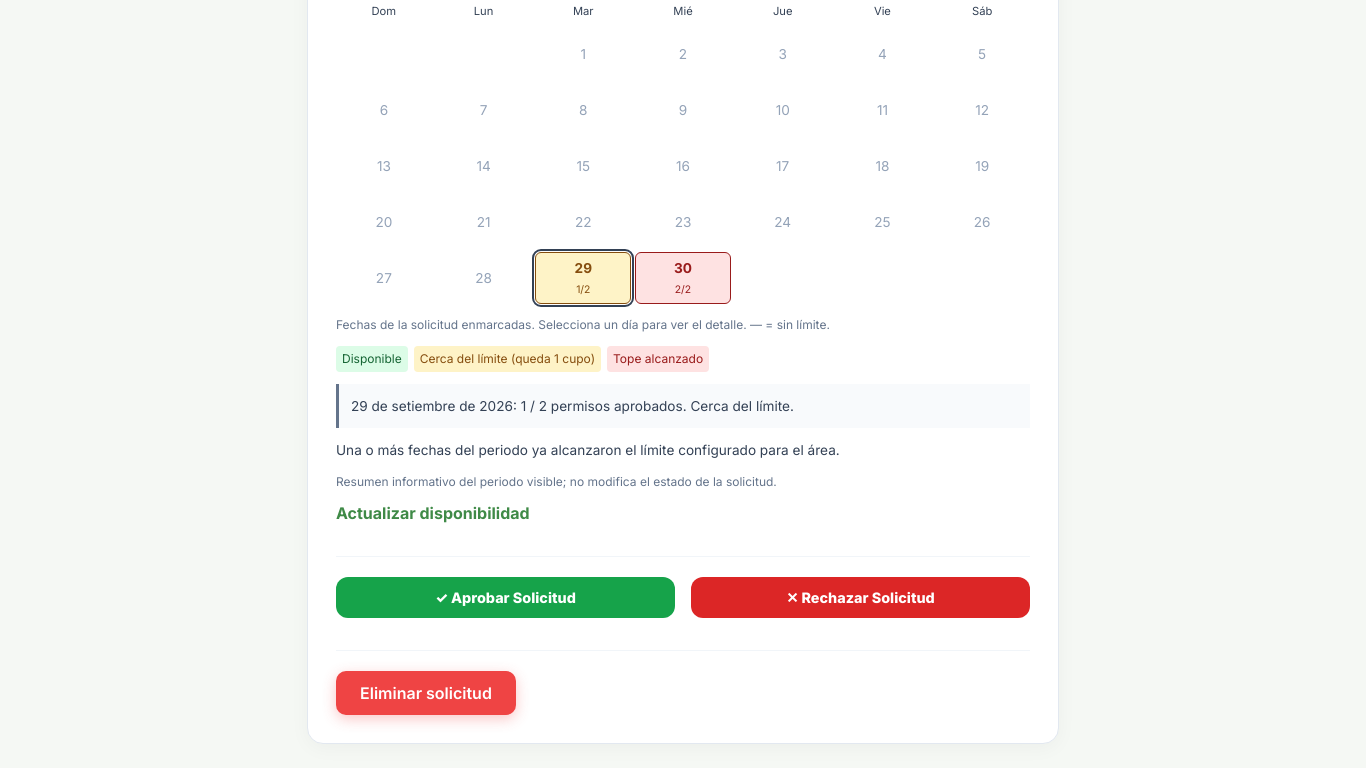
Test: Detalle RRHH: disponibilidad informativa › cancelar no aprueba y rechazar sigue exigiendo motivo
(page scrolled)
Click the button with class "btn-approve": (506, 598) [336, 577, 675, 618]
(page scrolled)
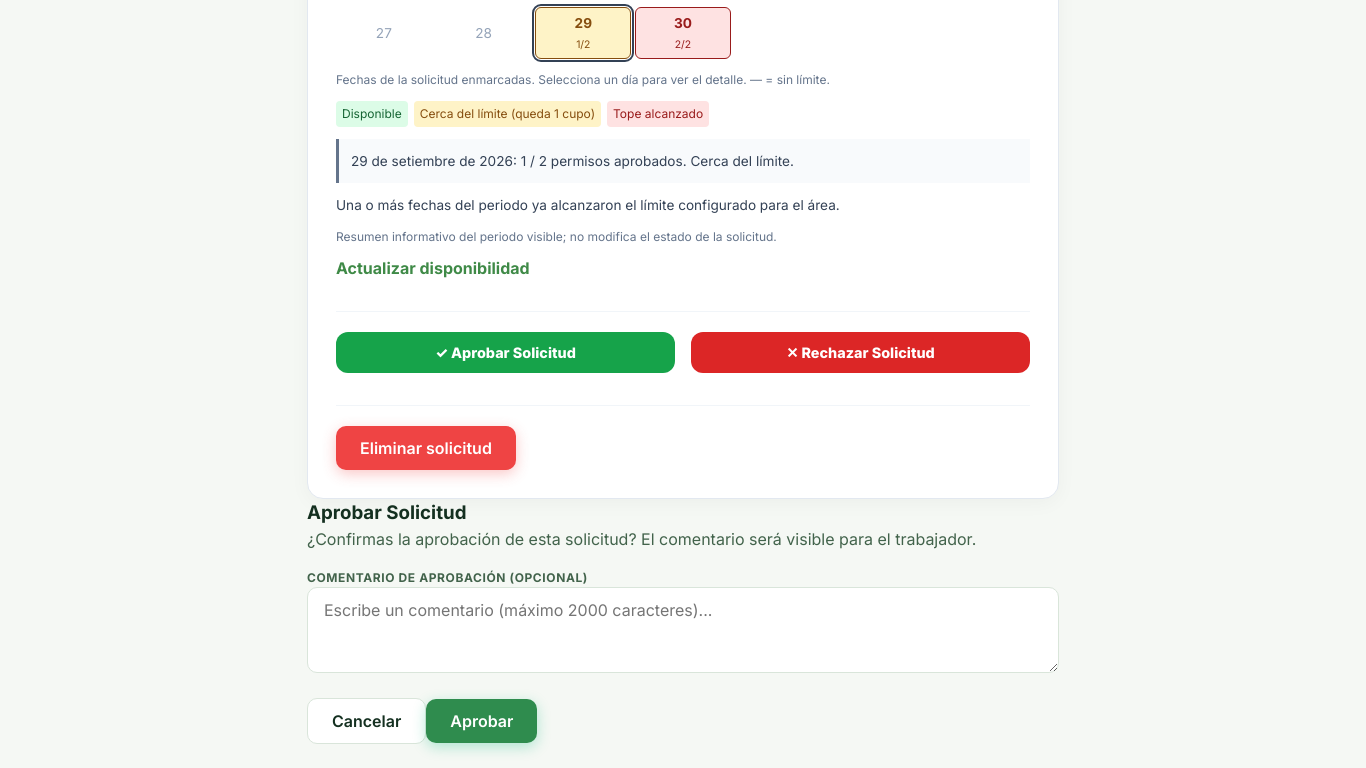
Click the button "Cancelar": (367, 721) [307, 698, 426, 744]
(page scrolled)
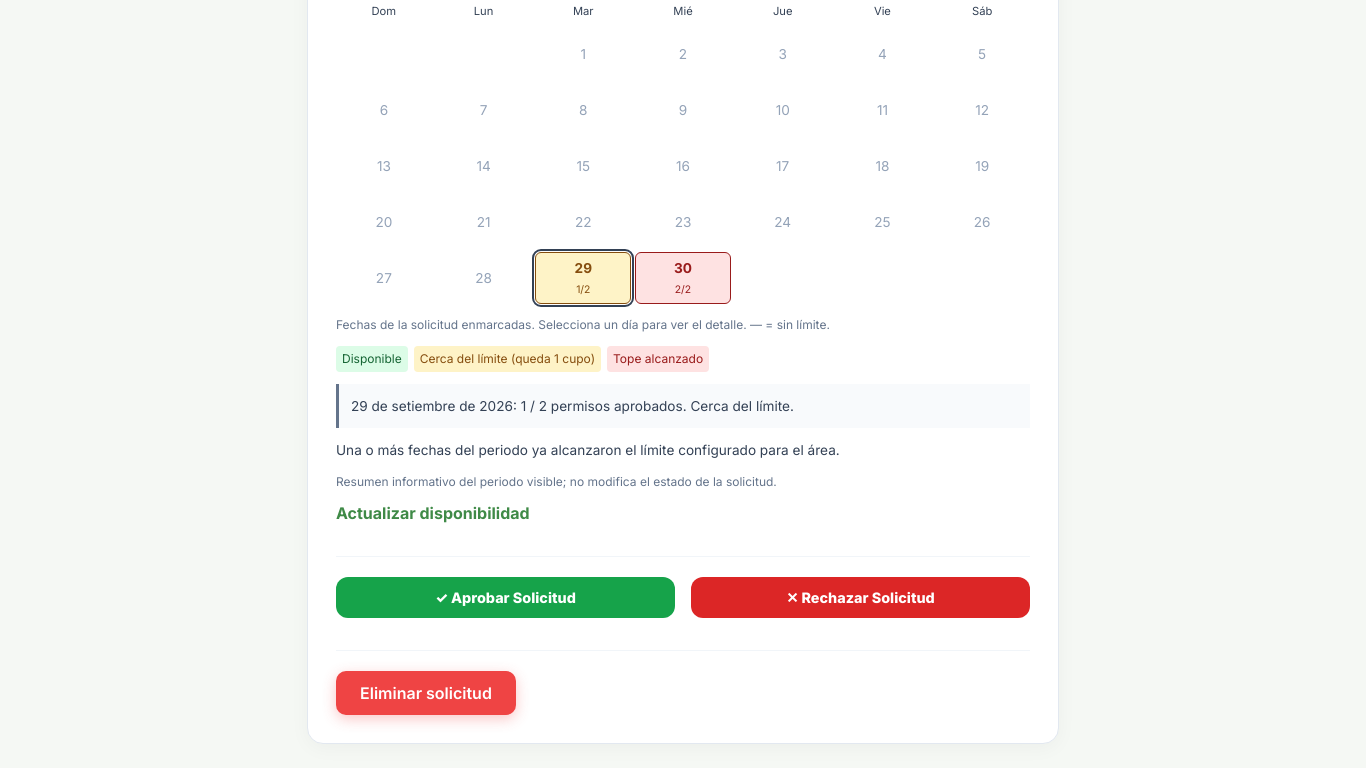
expect the dialog is gone: met
Click the button with class "btn-reject": (860, 598) [691, 577, 1030, 618]
(page scrolled)
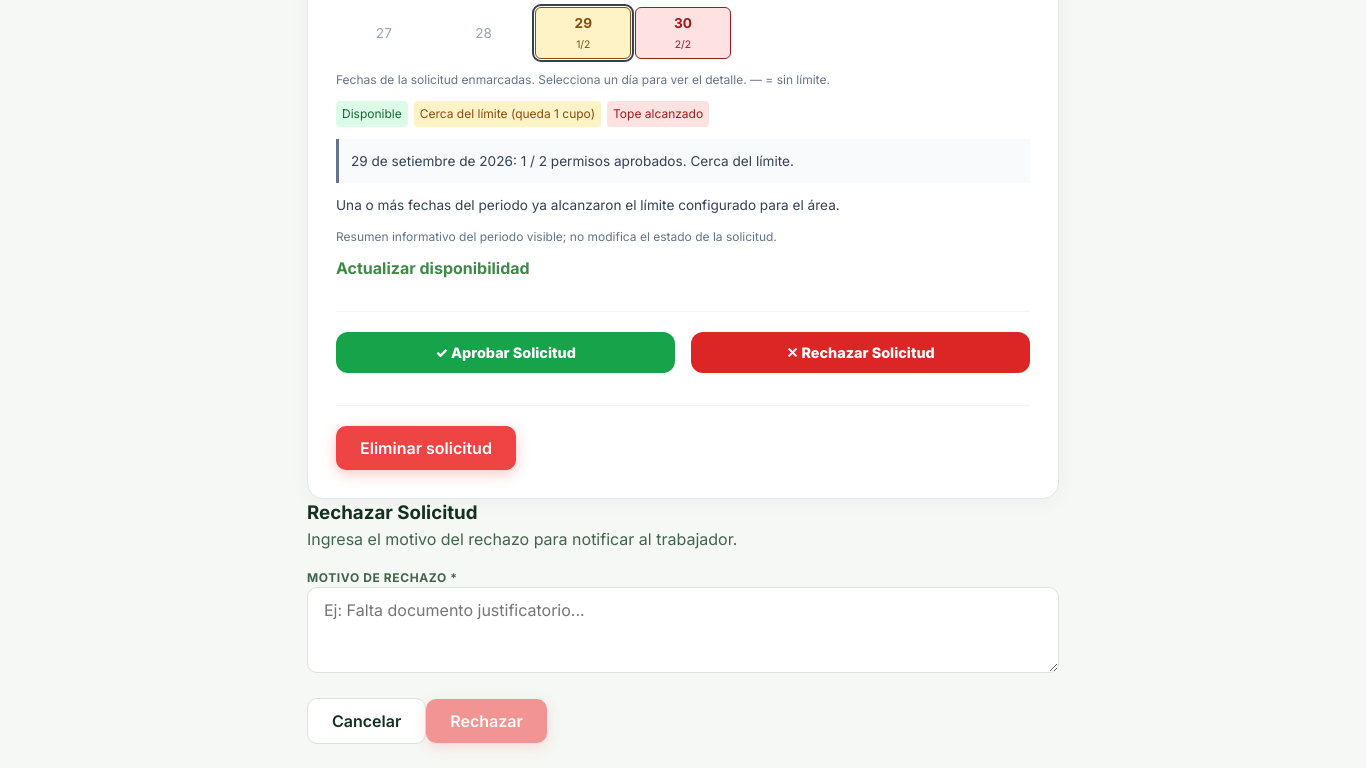
expect the button with class "btn-danger" showing "Rechazar" is disabled: met, box [426, 699, 547, 743]
